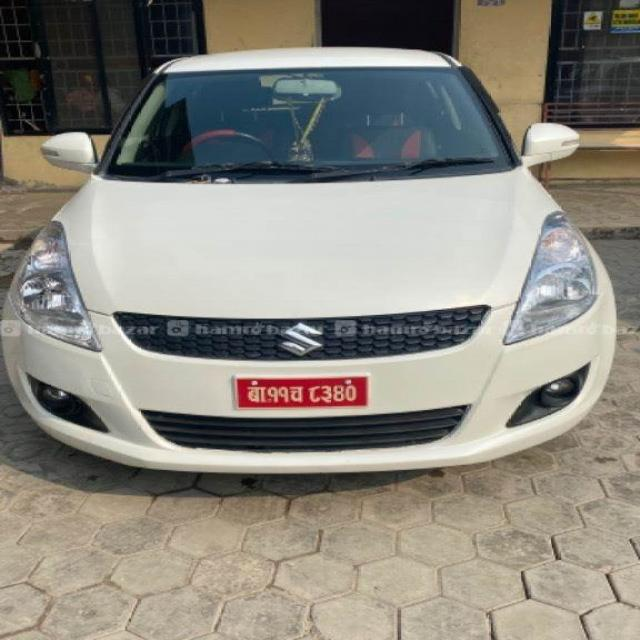License-plate: (233, 373, 380, 410)
